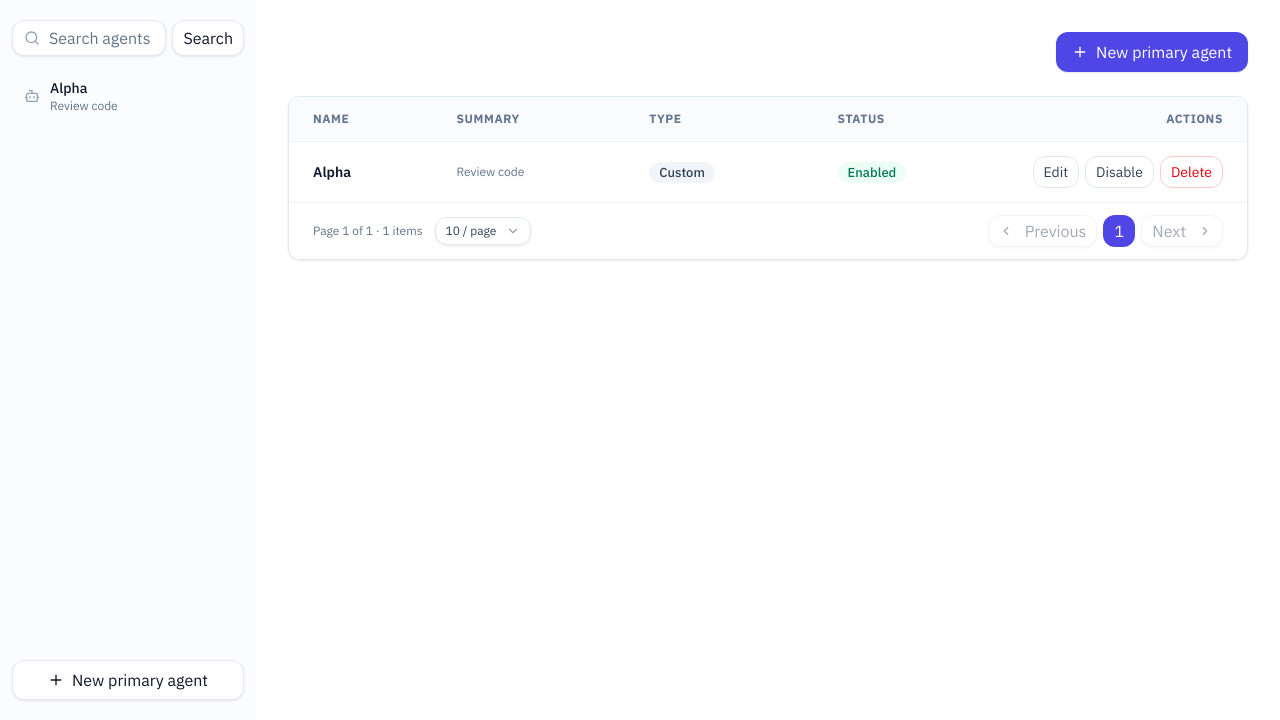
Scenario: agent management split view › shows persisted status and toggles an agent through the backend
Expected: the text "Enabled" is shown, [838,162,906,182]
Step 1. Click the button "Disable" → [1120, 172], box [1085,156,1154,188]
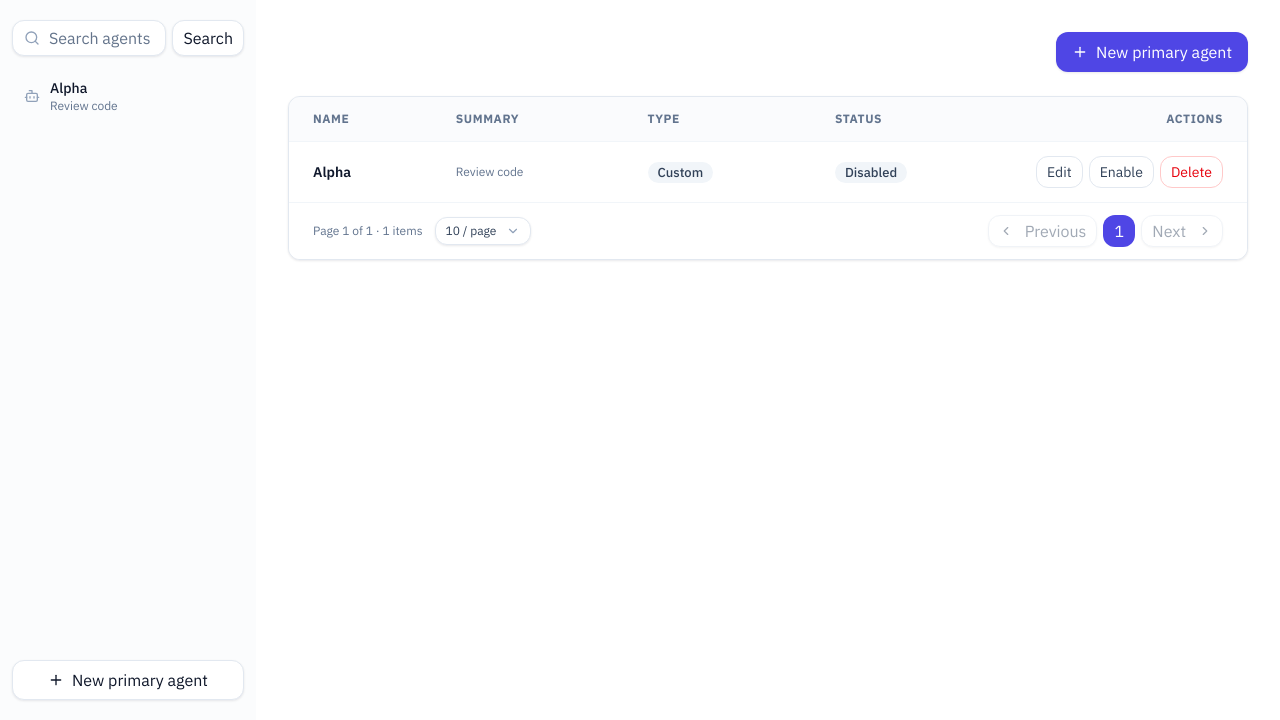
Now the button "Enable" is shown, box [1089,156,1154,188]
Now the text "Disabled" is shown, box [835,162,907,182]
